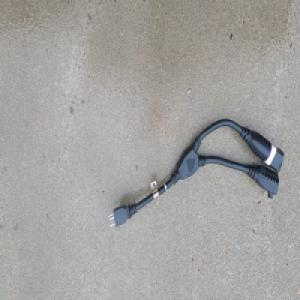Wire: (107, 116, 284, 228)
